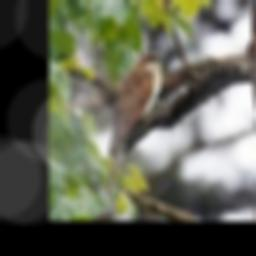Cuckoo: (105, 51, 167, 201)
